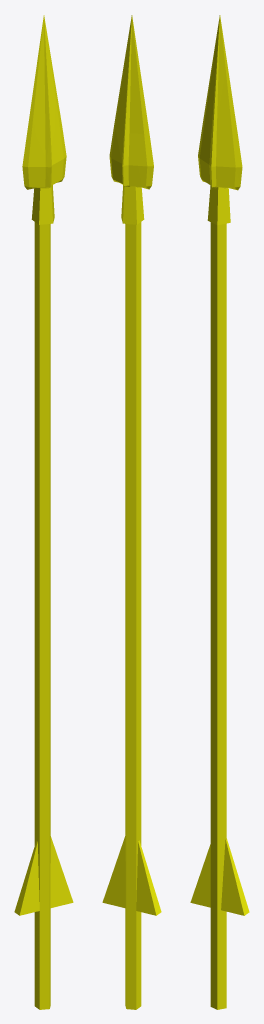
The model's file is _arrow_b_14.glb.
3 views of the same model, side by side, from view 1: azimuth 30°, elevation 25°; view 2: azimuth 150°, elevation 25°; view 3: azimuth 330°, elevation 25° (orthographic).
Parts seen in each view (by area): view 1: arrow_b_14; view 2: arrow_b_14; view 3: arrow_b_14.
Part boxes in pixels (<box>): arrow_b_14: <box>14,15,73,1009</box>; arrow_b_14: <box>102,15,161,1009</box>; arrow_b_14: <box>190,15,249,1009</box>.
Size of the model in its own units: 1243 by 21799 by 588.
